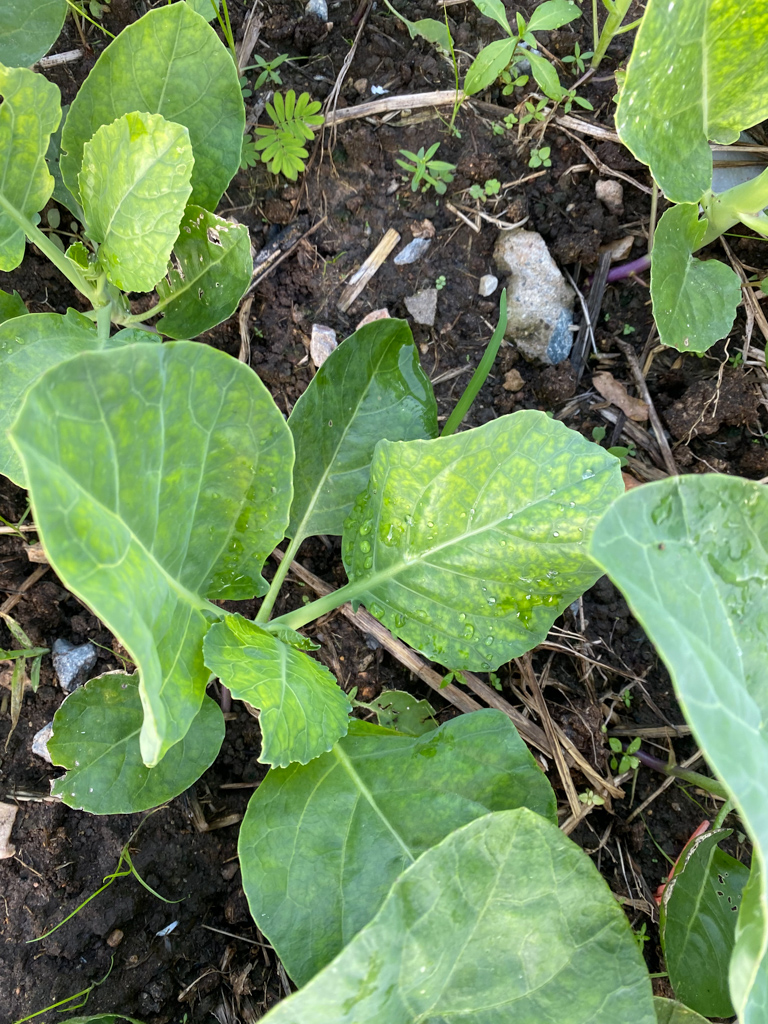Pepper yellow leaf: (367, 408, 596, 611), (84, 118, 177, 289), (696, 8, 766, 137)
